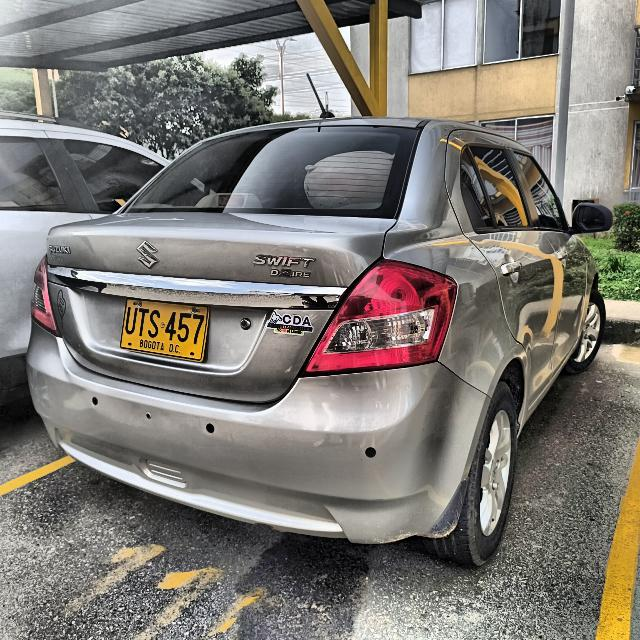plate: (121, 299, 209, 360)
